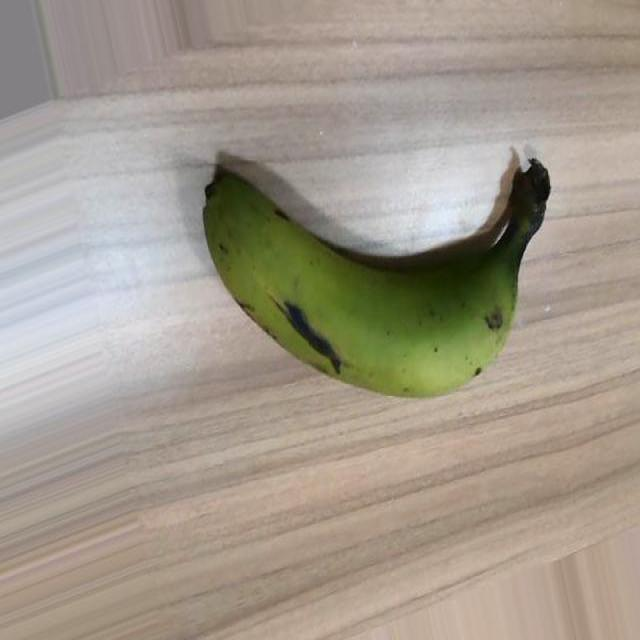Unripe: (200, 162, 549, 401)
